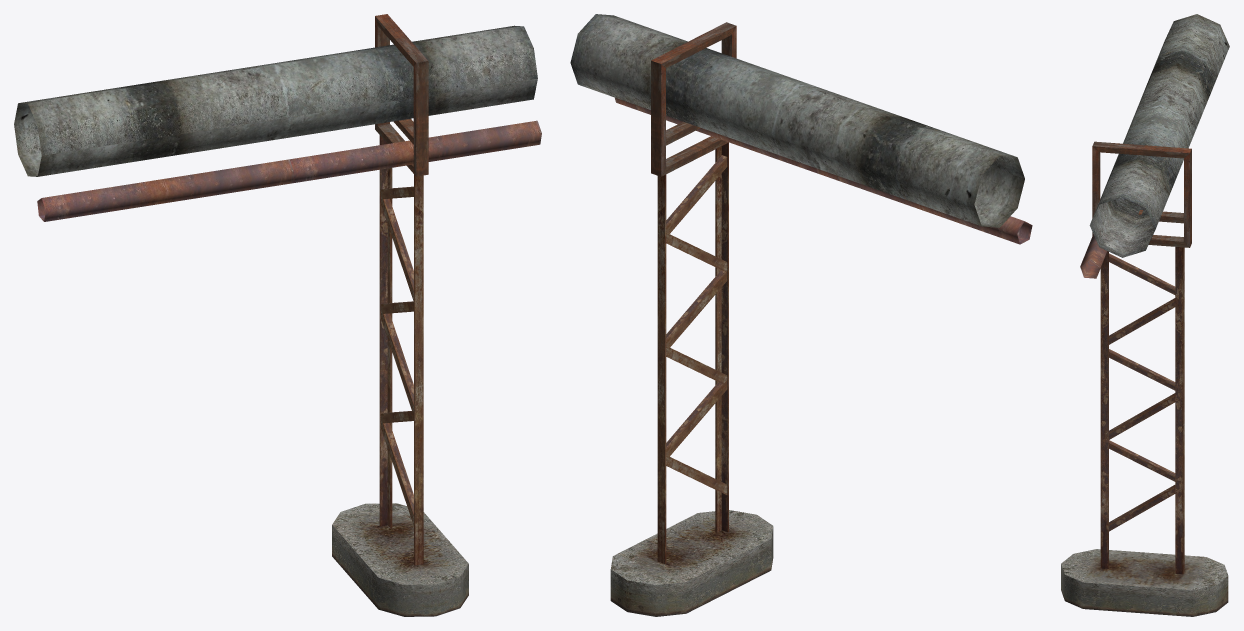
The model's file is Pipes_set_v1_H_set_v2 (3).glb.
3 views of the same model, side by side, from view 1: azimuth 30°, elevation 25°; view 2: azimuth 150°, elevation 25°; view 3: azimuth 270°, elevation 25° (orthographic). The views are drawn at different scales.
Visible parts, largest first — view 1: Pipes_set_v1_H_set_v2 (3); view 2: Pipes_set_v1_H_set_v2 (3); view 3: Pipes_set_v1_H_set_v2 (3).
Part boxes in pixels (x1,y1,x2,y2): Pipes_set_v1_H_set_v2 (3): (14, 14, 541, 616); Pipes_set_v1_H_set_v2 (3): (570, 14, 1032, 616); Pipes_set_v1_H_set_v2 (3): (1061, 14, 1229, 616).
Bounding box in the file's own units: 4.65 × 5.15 × 1.76.
1 material, 1 textured.
